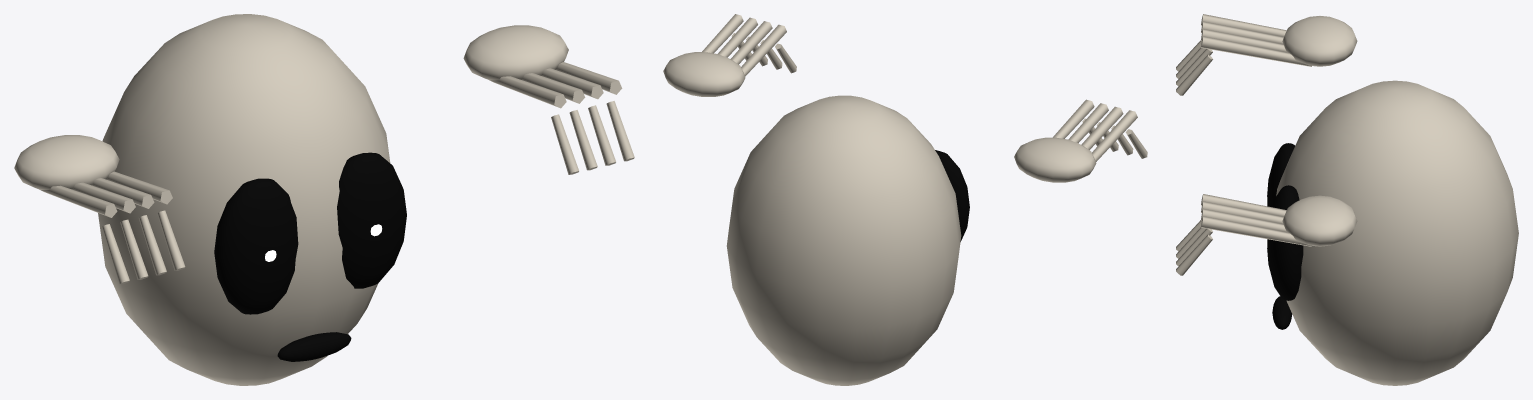
Rendered from peeker.glb.
3 renders of one model, left to right at view 1: azimuth 30°, elevation 25°; view 2: azimuth 150°, elevation 25°; view 3: azimuth 270°, elevation 25°, orthographic. The views are drawn at different scales.
Visible parts, largest first — view 1: skull, hand (×2), eyeL, eyeR, mouth; view 2: skull, hand (×2), eyeL; view 3: skull, hand (×2), eyeR, eyeL, mouth.
Part boxes in pixels (x1,y1,x2,y2): skull: (98, 14, 390, 385); hand (×2): (14, 25, 634, 284); eyeL: (214, 178, 298, 314); eyeR: (337, 152, 406, 288); mouth: (277, 332, 351, 361); skull: (726, 95, 961, 385); hand (×2): (663, 14, 1147, 182); eyeL: (935, 150, 969, 241); skull: (1276, 80, 1518, 385); hand (×2): (1176, 14, 1357, 275); eyeR: (1267, 185, 1303, 300); eyeL: (1267, 143, 1294, 207); mouth: (1272, 296, 1292, 329).
Bounding box in the file's own units: 0.412 × 0.253 × 0.274.
